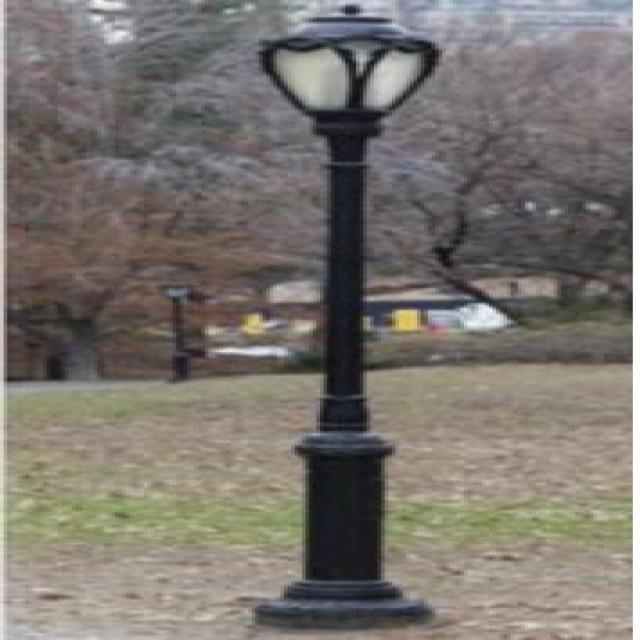off: (257, 20, 458, 144)
